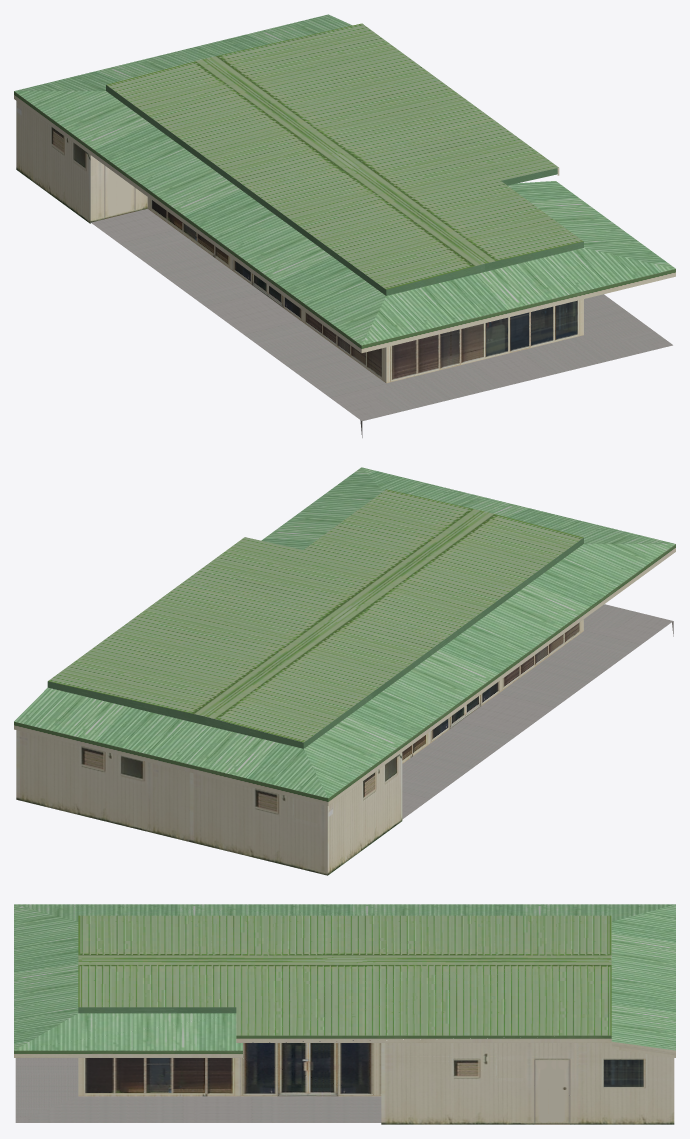
The model's file is terminal-small-05-20x10-cbj_LOD01.gltf.
3 renders of one model, top to bottom at view 1: azimuth 30°, elevation 25°; view 2: azimuth 150°, elevation 25°; view 3: azimuth 270°, elevation 25°, orthographic. The views are drawn at different scales.
Visible parts, largest first — view 1: Sketchup01; view 2: Sketchup01; view 3: Sketchup01.
Boxes of the visible parts, left/top/right/bottom form: Sketchup01: left=14, top=14, right=675, bottom=437; Sketchup01: left=14, top=467, right=675, bottom=875; Sketchup01: left=14, top=904, right=675, bottom=1124.
Bounding box in the file's own units: 10.5 × 3.6 × 20.1.
